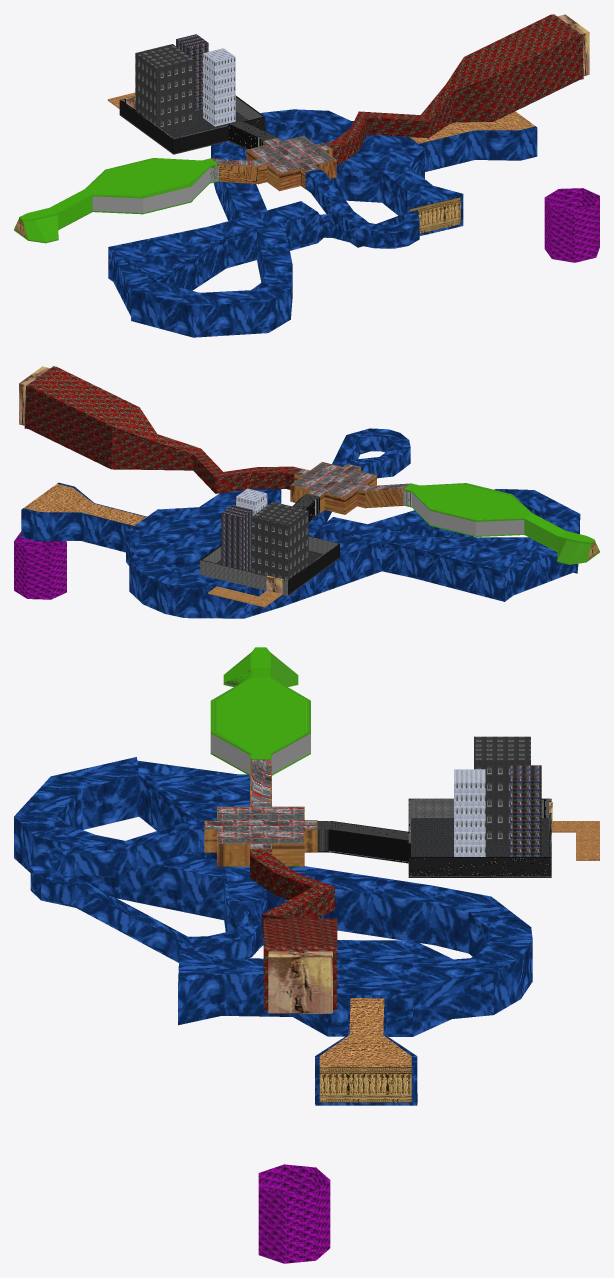
File: room_v5.glb
3 renders of one model, top to bottom at view 1: azimuth 30°, elevation 25°; view 2: azimuth 150°, elevation 25°; view 3: azimuth 270°, elevation 25°, orthographic. The views are drawn at different scales.
Parts seen in each view (by area): view 1: WaterRealm, cave, Garden, building2, Room, City, Prison, building, building3, Monolith_cave_purple; view 2: WaterRealm, cave, Garden, Room, building2, City, Prison, building3, citySecretRoom, building, Monolith_cave_purple; view 3: WaterRealm, City, Garden, Room, cave, Prison, Monolith_cave_purple, building2, building3, building, citySecretRoom.
Boxes of the visible parts, box(x1,y1,x2,y2) form: WaterRealm: box(108, 109, 537, 337); cave: box(324, 14, 583, 164); Garden: box(14, 158, 218, 243); building2: box(135, 44, 194, 131); Room: box(211, 136, 336, 191); City: box(119, 95, 276, 154); Prison: box(544, 188, 599, 262); building: box(203, 48, 235, 126); building3: box(176, 34, 208, 110); Monolith_cave_purple: box(557, 14, 589, 76); WaterRealm: box(21, 428, 580, 618); cave: box(24, 366, 301, 493); Garden: box(403, 483, 599, 564); Room: box(290, 462, 410, 514); building2: box(252, 502, 308, 580); City: box(200, 494, 339, 595); Prison: box(14, 532, 66, 599); building3: box(221, 505, 252, 571); citySecretRoom: box(208, 586, 282, 607); building: box(236, 488, 267, 515); Monolith_cave_purple: box(19, 366, 49, 425); WaterRealm: box(14, 757, 532, 1105); City: box(317, 798, 551, 877); Garden: box(210, 647, 310, 775); Room: box(204, 759, 317, 866); cave: box(250, 849, 337, 1010); Prison: box(258, 1164, 330, 1263); Monolith_cave_purple: box(268, 951, 332, 1013); building2: box(474, 736, 530, 846); building3: box(510, 765, 541, 856); building: box(454, 769, 485, 856); citySecretRoom: box(551, 821, 599, 860).
Bounding box in the file's own units: 133 × 48.59 × 86.55.
24 materials, 24 textured.
